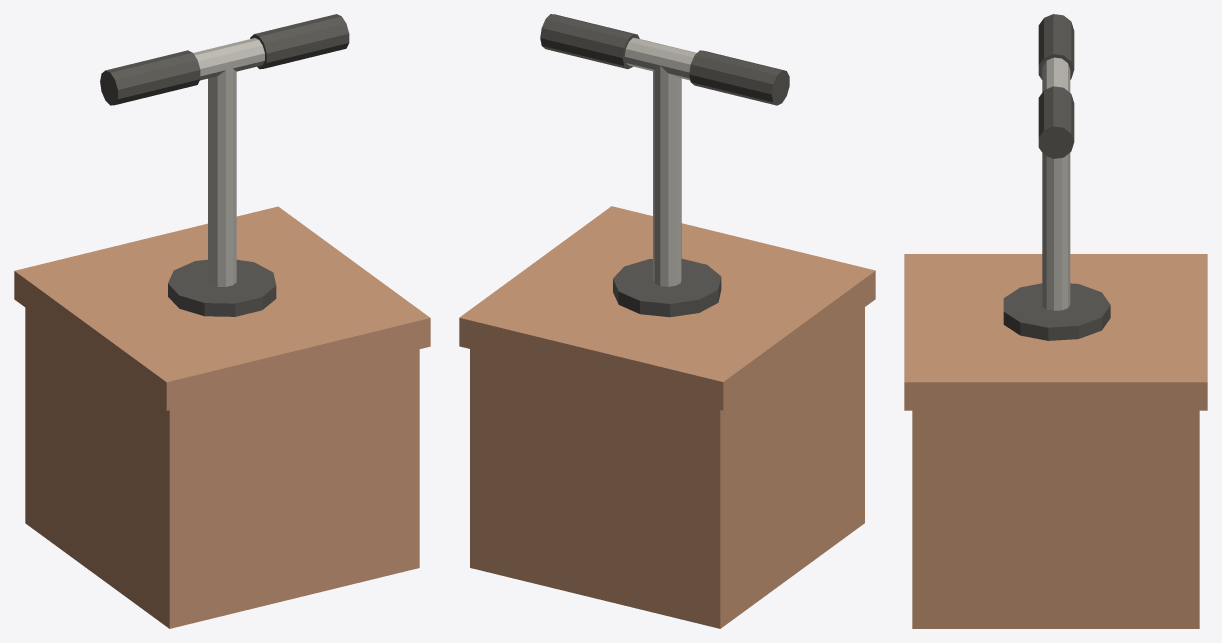
Rendered from detonator.fbx.
3 renders of one model, left to right at view 1: azimuth 30°, elevation 25°; view 2: azimuth 150°, elevation 25°; view 3: azimuth 270°, elevation 25°, orthographic.
Parts seen in each view (by area): view 1: Cube; view 2: Cube; view 3: Cube.
Part boxes in pixels (box(x1,y1,x2,y2)): Cube: box(14, 14, 430, 628); Cube: box(459, 14, 875, 628); Cube: box(904, 14, 1207, 628).
Size of the model in its own units: 200 by 363 by 200.
